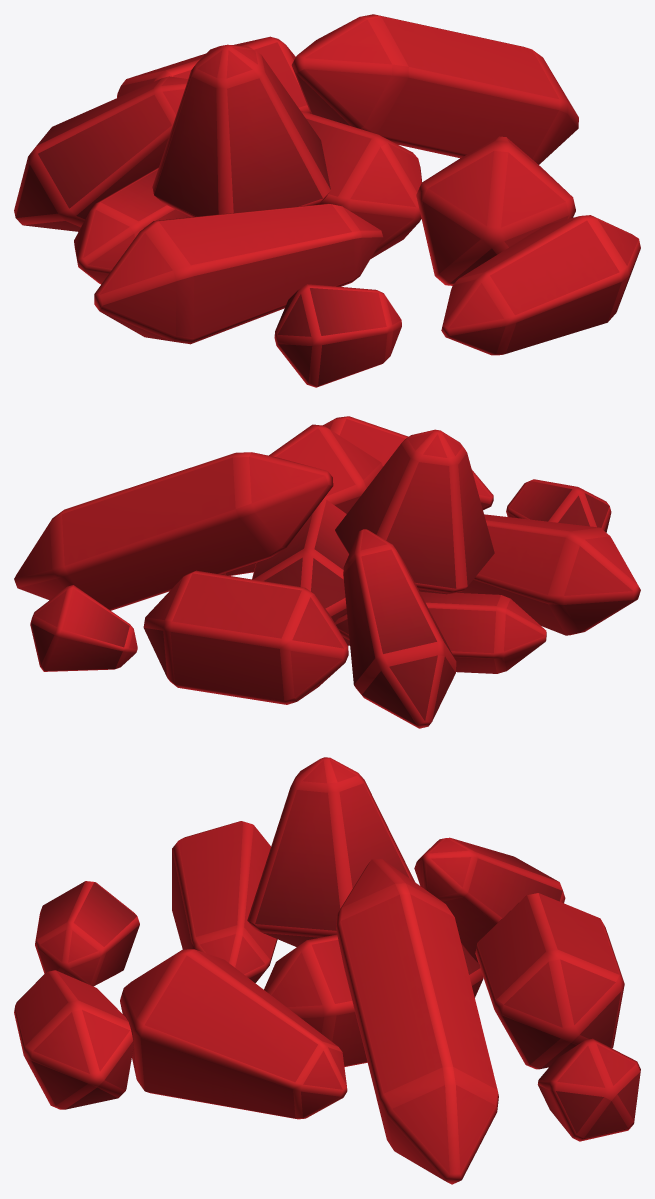
Rendered from christal_ruby_pile.fbx.
3 views of the same model, one above another, from view 1: azimuth 30°, elevation 25°; view 2: azimuth 150°, elevation 25°; view 3: azimuth 270°, elevation 25° (orthographic). The views are drawn at different scales.
Visible parts, largest first — view 1: christal_ruby_pile; view 2: christal_ruby_pile; view 3: christal_ruby_pile.
Part boxes in pixels (x1,y1,x2,y2): christal_ruby_pile: (14, 14, 640, 387); christal_ruby_pile: (14, 416, 640, 728); christal_ruby_pile: (14, 757, 640, 1184).
Bounding box in the file's own units: 182 × 69.99 × 169.
Materials: 1 (1 with a texture image).
